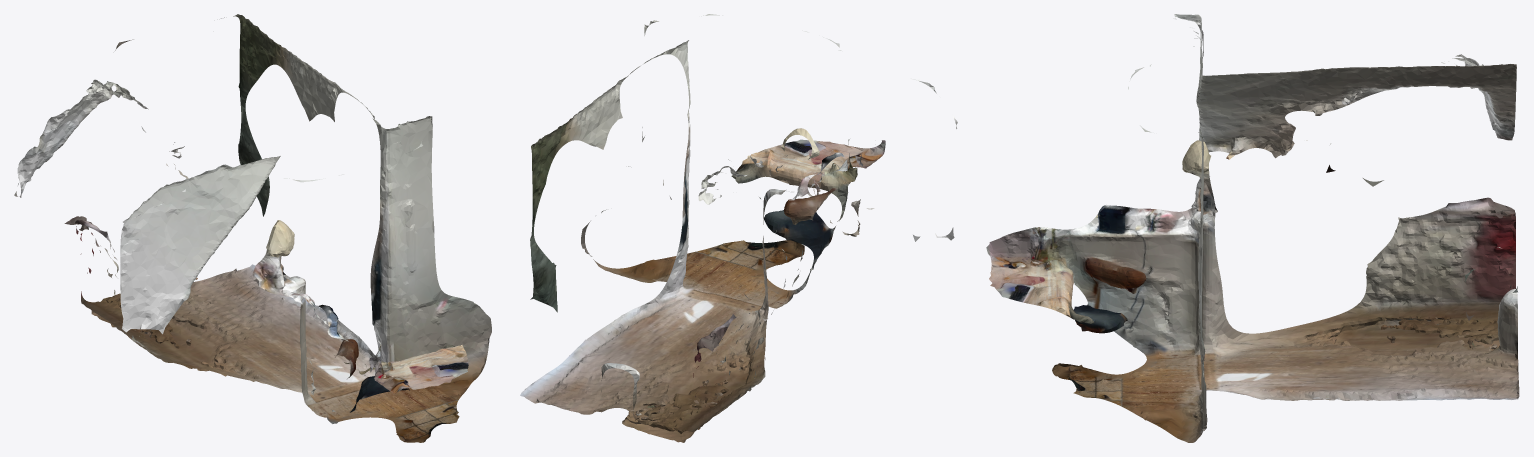
3 views of the same model, side by side, from view 1: azimuth 30°, elevation 25°; view 2: azimuth 150°, elevation 25°; view 3: azimuth 270°, elevation 25° (orthographic). The views are drawn at different scales.
Bounding box in the file's own units: 3.46 × 2.38 × 4.11.
1 material, 1 textured.
